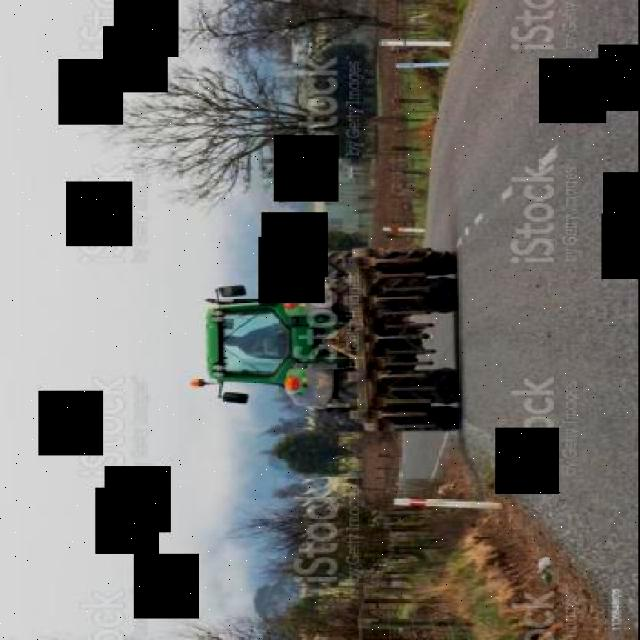Tratores - v5 YOLO V8L 2024-11-13: (154, 224, 491, 476)
